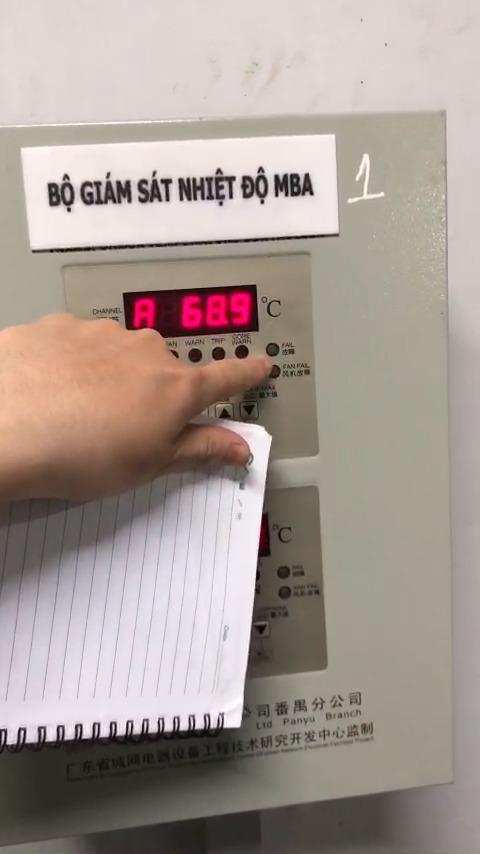led: (265, 342, 282, 359), (211, 346, 228, 362), (234, 344, 250, 360), (188, 348, 203, 364), (267, 365, 282, 381), (277, 566, 290, 580), (278, 586, 292, 599)
